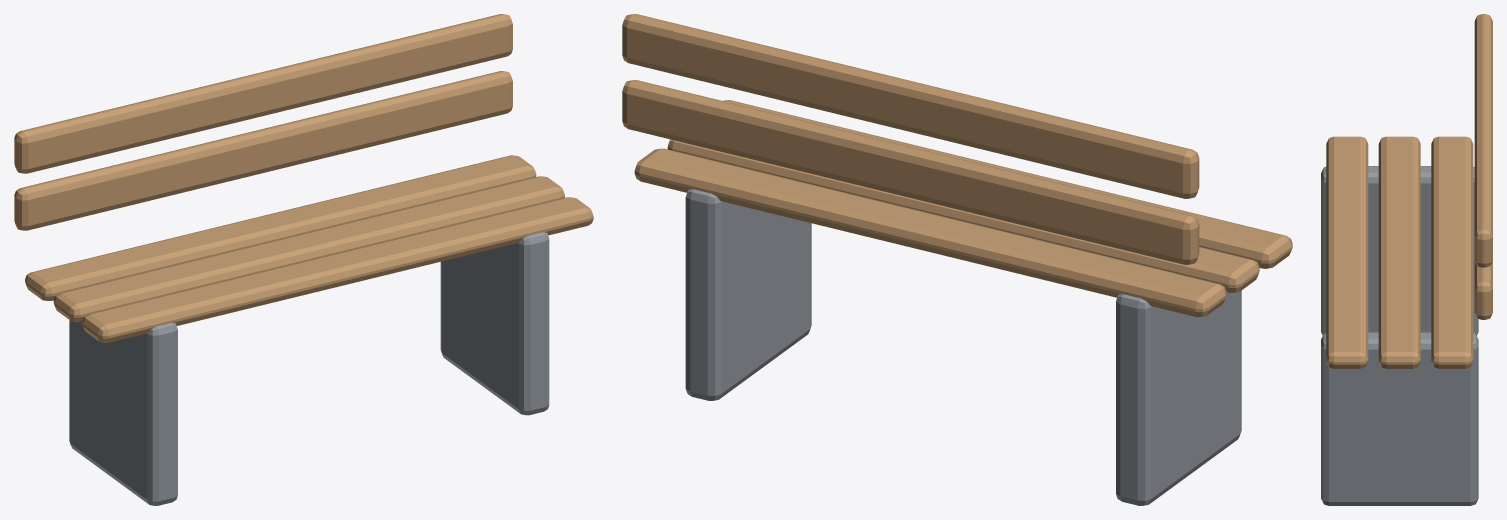
Rendered from bench.fbx.
3 renders of one model, left to right at view 1: azimuth 30°, elevation 25°; view 2: azimuth 150°, elevation 25°; view 3: azimuth 270°, elevation 25°, orthographic. The views are drawn at different scales.
Parts seen in each view (by area): view 1: Visual; view 2: Visual; view 3: Visual.
Boxes of the visible parts, x1,y1,x2,y2 form: Visual: [14, 14, 593, 505]; Visual: [622, 14, 1292, 505]; Visual: [1321, 14, 1492, 505].
Size of what is drawn, in the model's own units: 200 by 125 by 65.5.
